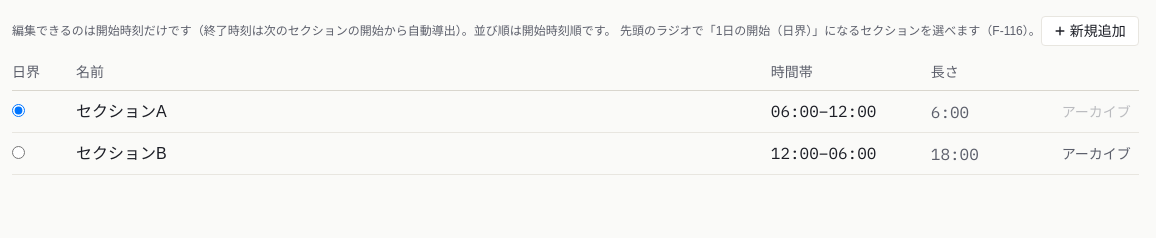
Test: SectionsTable（画面定義書03 §3.1: 開始時刻・日界の選択・終了時刻は導出） › 日界セクションの選択（F-116 / 画面定義書03 §3.1） › 日界切替の失敗はメッセージで知らせる（別タブで対象が消えた等）
The width and height of the screenshot is (1156, 238).
Click the radio button named "セクションBを1日の開始にする" at (18, 152), box [12,146,25,158]
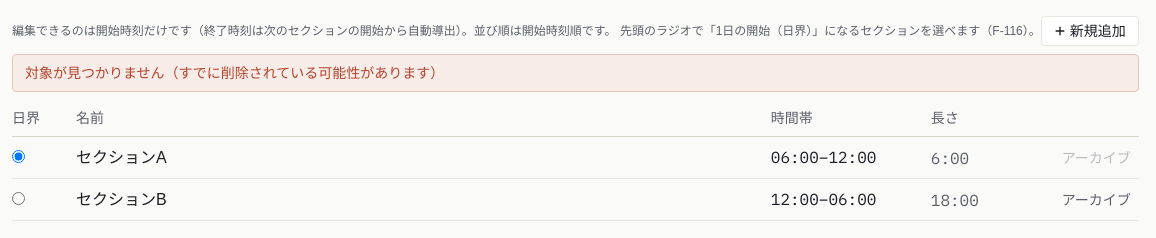
expect the text "対象が見つかりません（すでに削除されている可能性があります）" is shown: met, box [12,54,1139,92]
